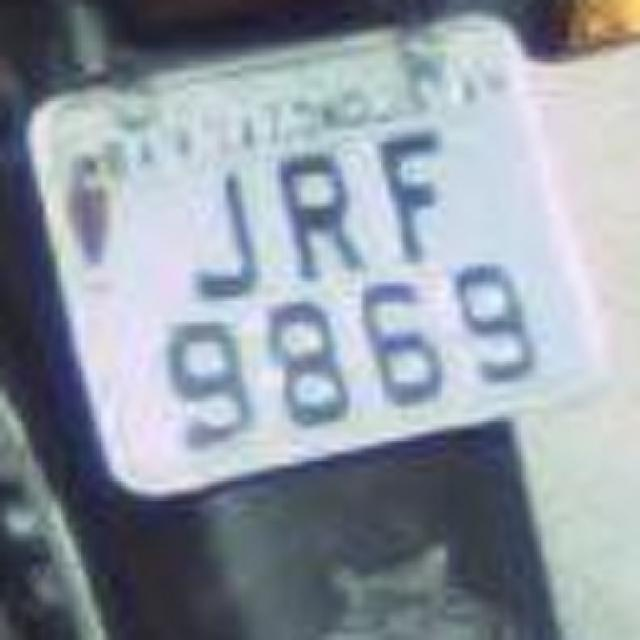6: (332, 260, 460, 420)
8: (240, 272, 375, 436)
9: (129, 304, 276, 451), (436, 245, 556, 400)
F: (364, 116, 476, 276)
J: (156, 148, 284, 304)
R: (256, 132, 389, 292)
